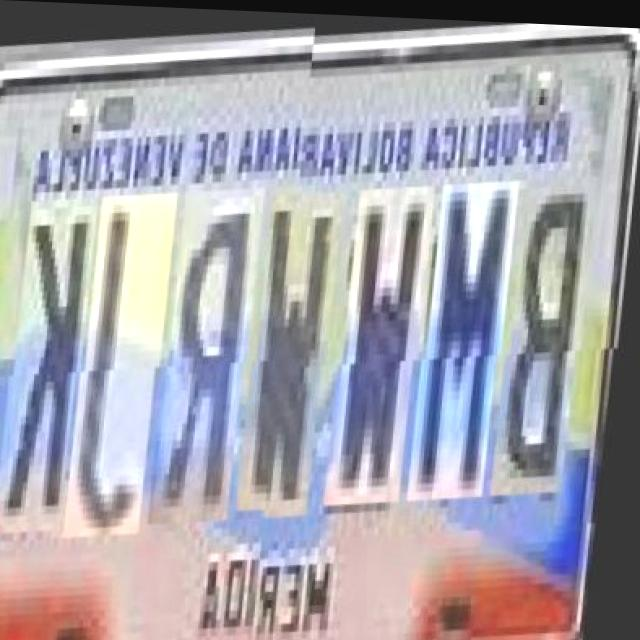b: (502, 167, 598, 492)
j: (74, 186, 176, 538)
k: (3, 190, 98, 533)
m: (418, 170, 518, 497)
r: (157, 181, 264, 526)
w: (246, 178, 344, 513), (335, 173, 435, 500)
